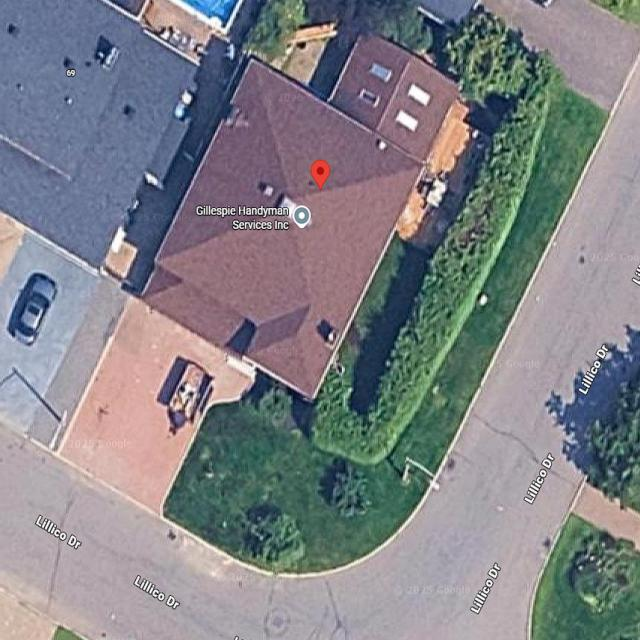Building: (141, 30, 461, 402)
boundaryof property: (59, 0, 610, 577)
obstacle: (310, 103, 545, 468), (167, 365, 218, 427)
walkways: (58, 300, 255, 520)
